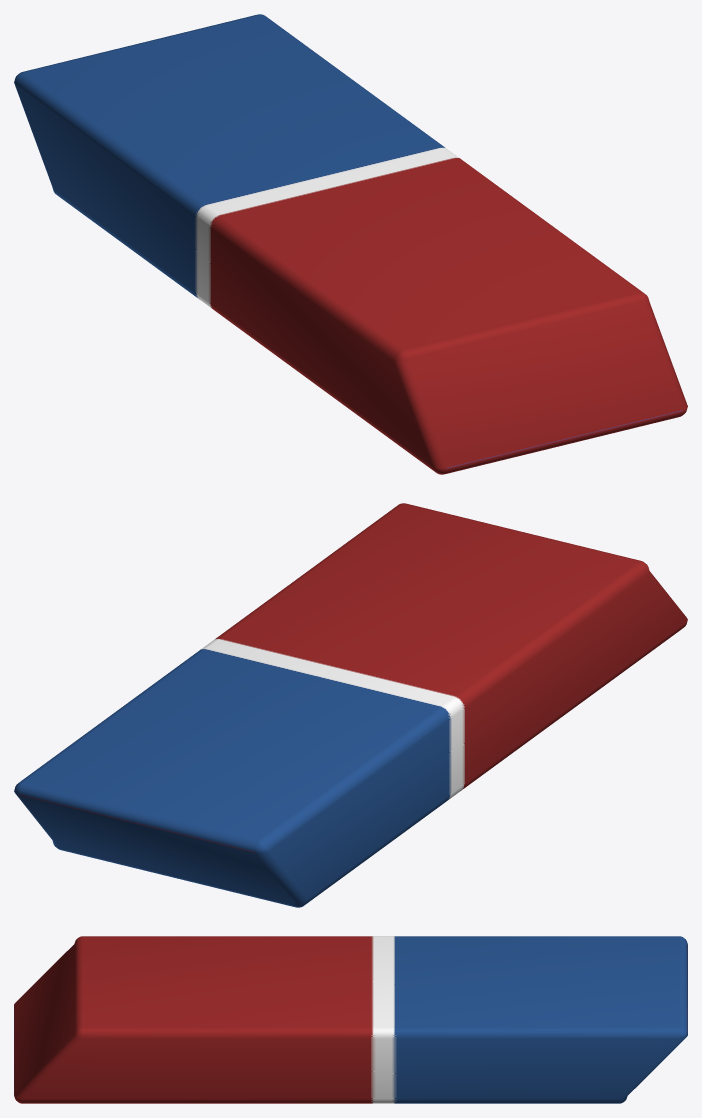
File: Eraser.FBX
3 views of the same model, one above another, from view 1: azimuth 30°, elevation 25°; view 2: azimuth 150°, elevation 25°; view 3: azimuth 270°, elevation 25° (orthographic). The views are drawn at different scales.
Visible parts, largest first — view 1: Eraser; view 2: Eraser; view 3: Eraser.
Boxes of the visible parts, bbox=[...] form: Eraser: bbox=[14, 14, 687, 474]; Eraser: bbox=[14, 503, 687, 907]; Eraser: bbox=[14, 936, 687, 1103].
Bounding box in the file's own units: 0.9413 × 0.3389 × 2.75.
1 material, 1 textured.
